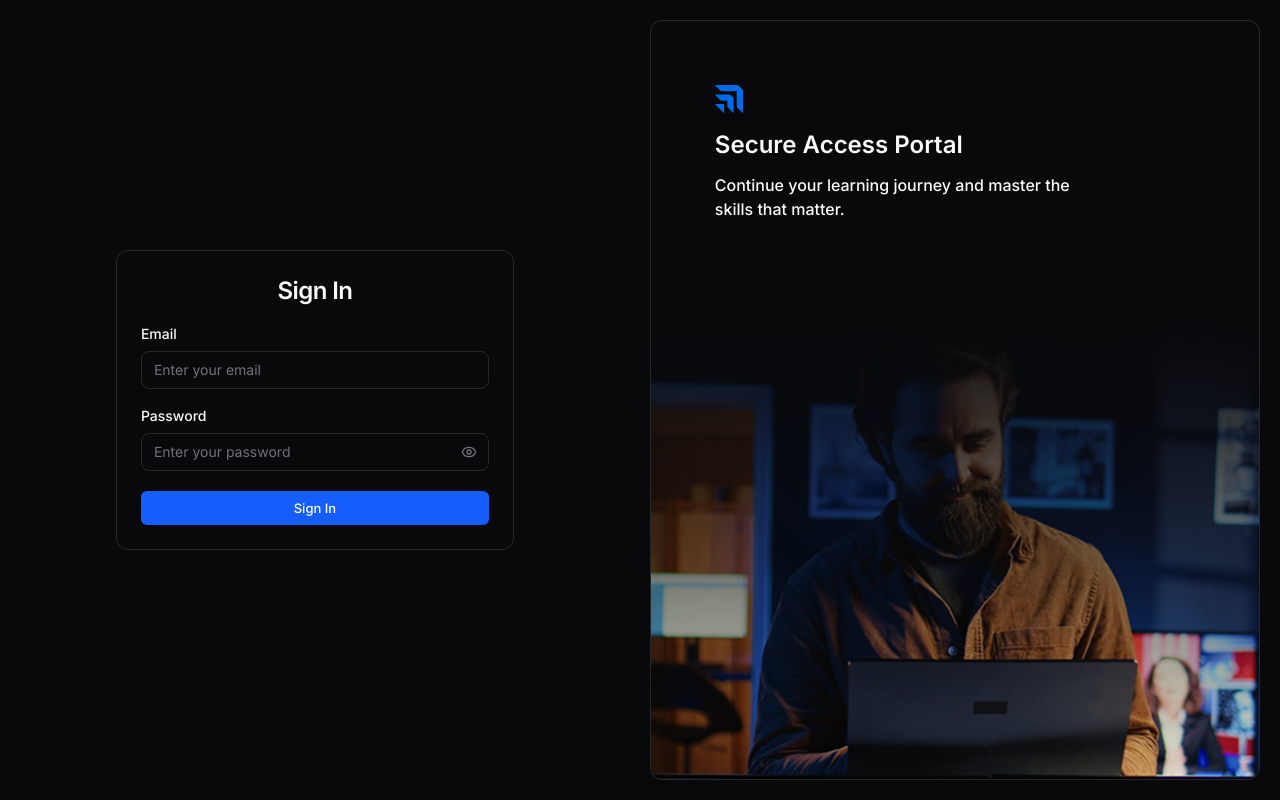
LoginPage Integration › Form & Input Validation › displays Zod validation errors when submitting an empty form
Click the button "Sign In": (315,508) [141,491,489,525]
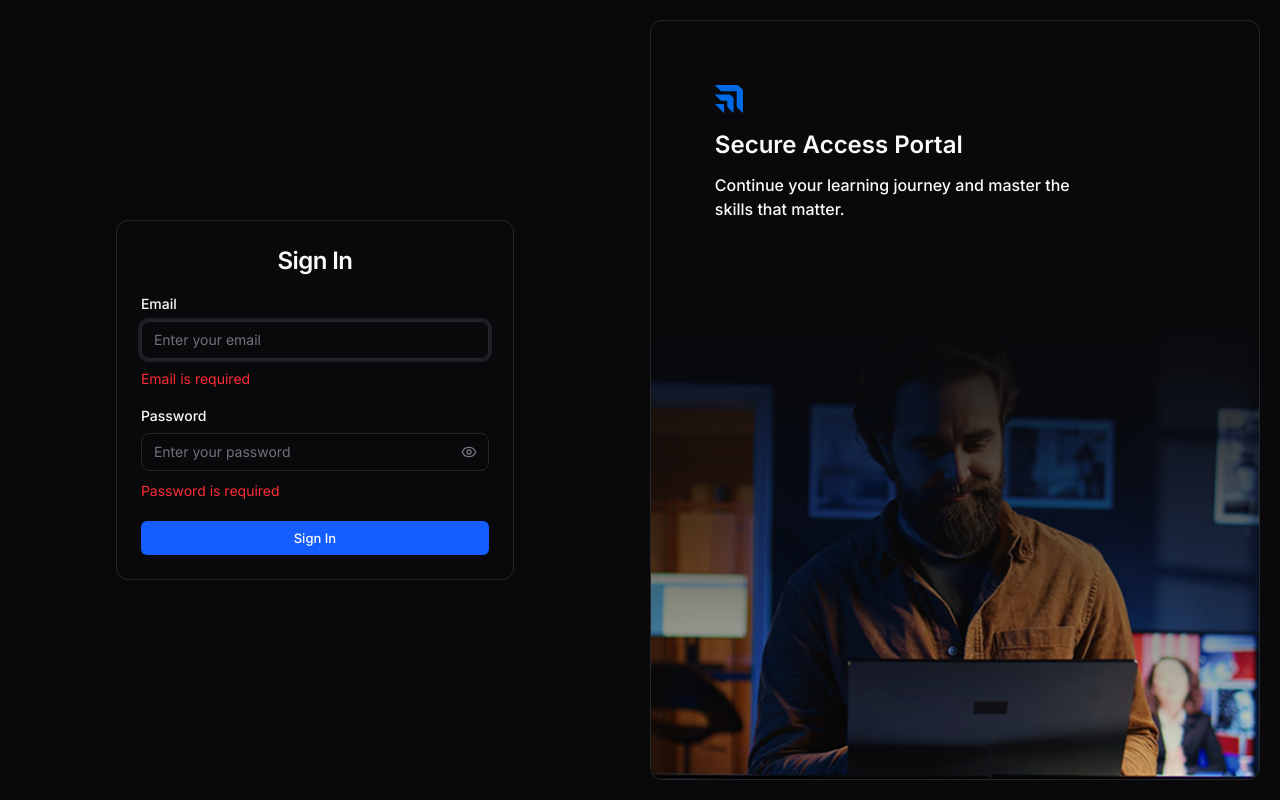
Check: the text "Email is required" is shown, box [141,370,250,387]
Check: the text "Password is required" is shown, box [141,482,280,499]
